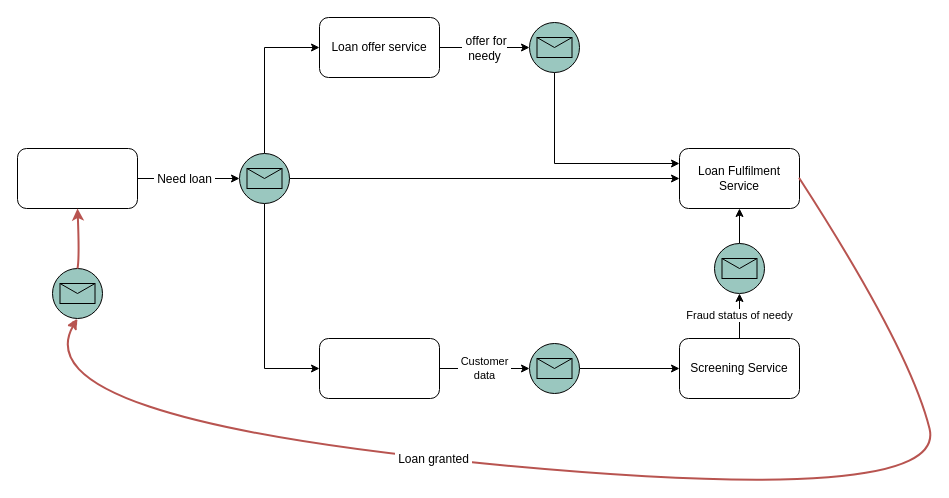
This 949x498 diagram has some shape labels left out. Here are the shapes that lost their labels. From the top down, the box of each, then its label:
(16, 148, 138, 208): Gateway
(318, 338, 440, 398): customer service
